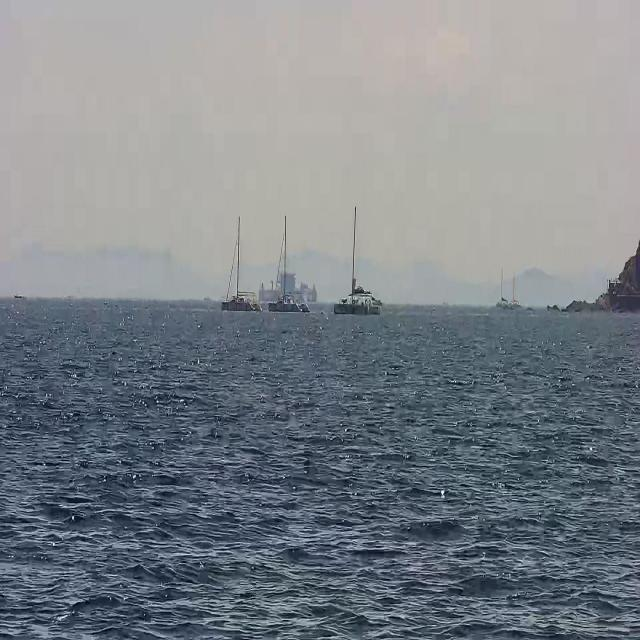ship2: (333, 210, 382, 317), (268, 214, 307, 313), (221, 215, 258, 312)
